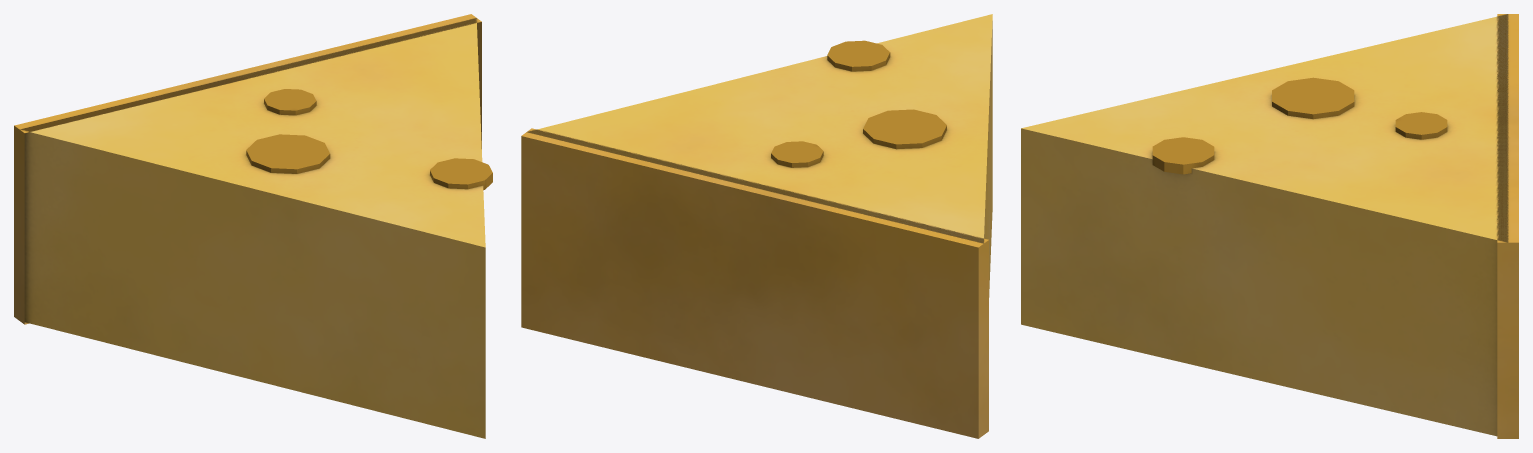
Rendered from cheese_wedge.fbx.
3 views of the same model, side by side, from view 1: azimuth 30°, elevation 25°; view 2: azimuth 150°, elevation 25°; view 3: azimuth 270°, elevation 25° (orthographic). The views are drawn at different scales.
Visible parts, largest first — view 1: Body; view 2: Body; view 3: Body.
Part boxes in pixels (x1,y1,x2,y2): Body: (14, 14, 492, 438); Body: (521, 14, 992, 438); Body: (1021, 14, 1518, 438).
Size of the model in its own units: 0.5 by 0.205 by 0.46.
Materials: 1 (1 with a texture image).
